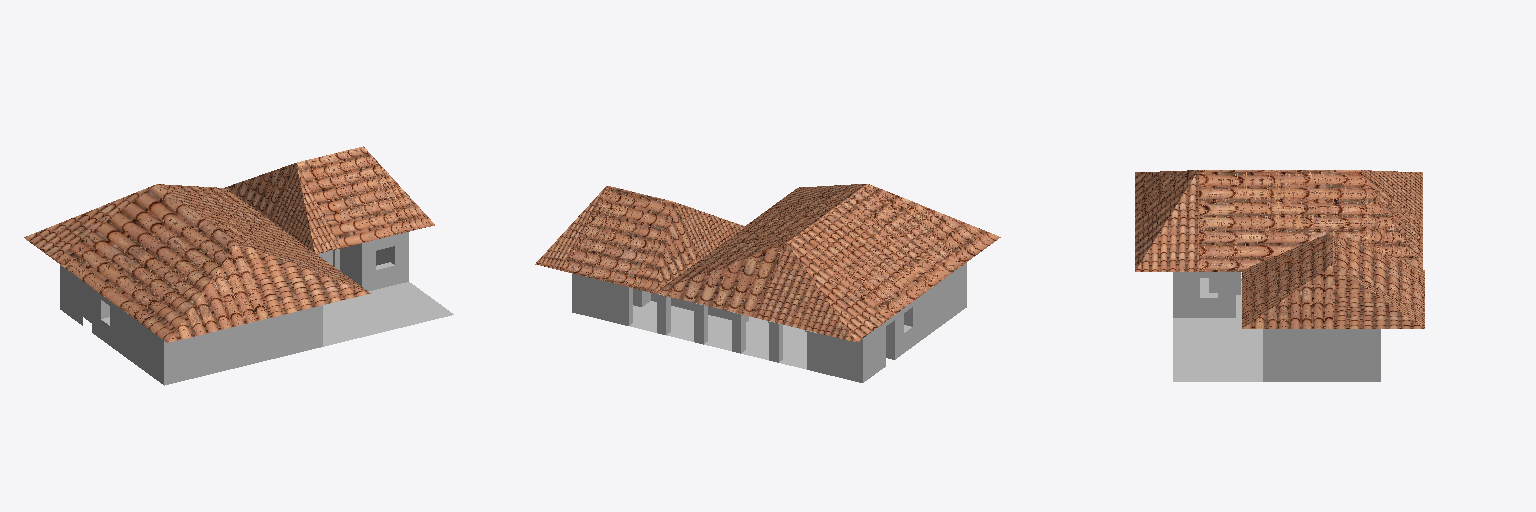
3 renders of one model, left to right at view 1: azimuth 30°, elevation 25°; view 2: azimuth 150°, elevation 25°; view 3: azimuth 270°, elevation 25°, orthographic.
Visible parts, largest first — view 1: Plane.001_Plane.003, Plane, Plane.002_Plane.004; view 2: Plane.001_Plane.003, Plane, Plane.002_Plane.004; view 3: Plane.001_Plane.003, Plane, Plane.002_Plane.004.
Boxes of the visible parts, x1=… form: Plane.001_Plane.003: x1=24, y1=184, x2=370, y2=342; Plane: x1=60, y1=232, x2=453, y2=385; Plane.002_Plane.004: x1=225, y1=146, x2=434, y2=253; Plane.001_Plane.003: x1=656, y1=184, x2=1000, y2=341; Plane: x1=572, y1=263, x2=966, y2=382; Plane.002_Plane.004: x1=535, y1=186, x2=744, y2=293; Plane.001_Plane.003: x1=1135, y1=170, x2=1422, y2=271; Plane: x1=1173, y1=272, x2=1380, y2=381; Plane.002_Plane.004: x1=1242, y1=231, x2=1424, y2=328.
Bounding box in the file's own units: 38.02 × 12.96 × 29.63.
4 materials, 1 textured.